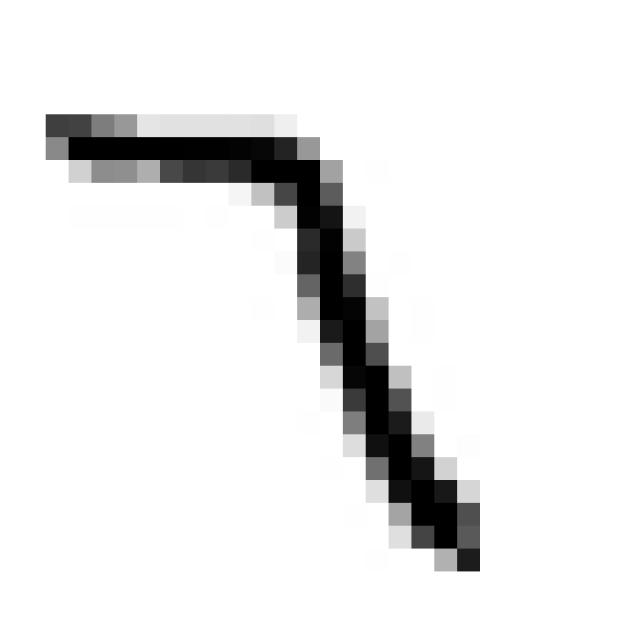6 -six-: (32, 89, 504, 587)
